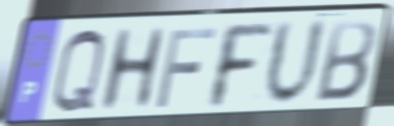B: (312, 18, 378, 104)
F: (208, 21, 276, 112), (153, 25, 219, 111)
H: (95, 25, 170, 116)
Q: (49, 27, 108, 119)
U: (262, 16, 330, 110)
